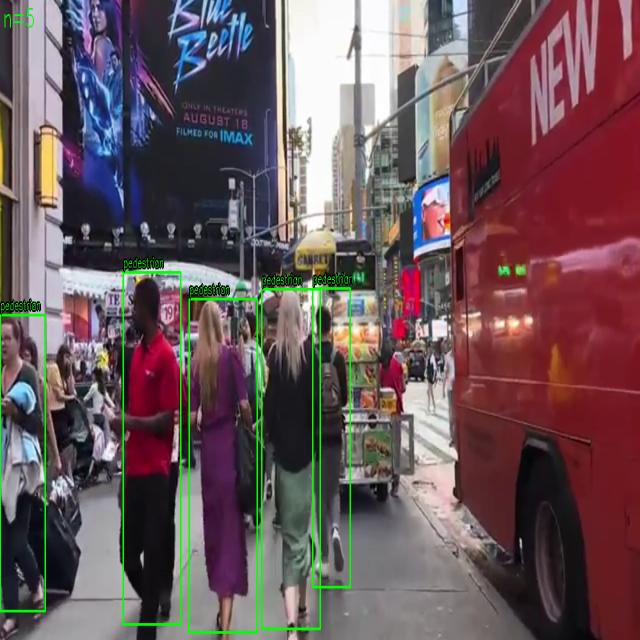with scooter: (189, 299, 257, 633), (123, 272, 181, 625), (262, 289, 321, 629), (0, 314, 46, 612), (312, 288, 350, 588)
